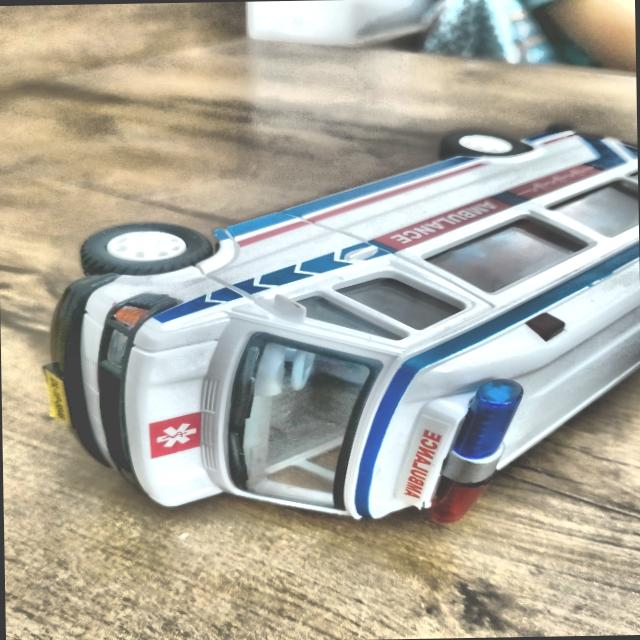Ambulance: (0, 118, 640, 538)
